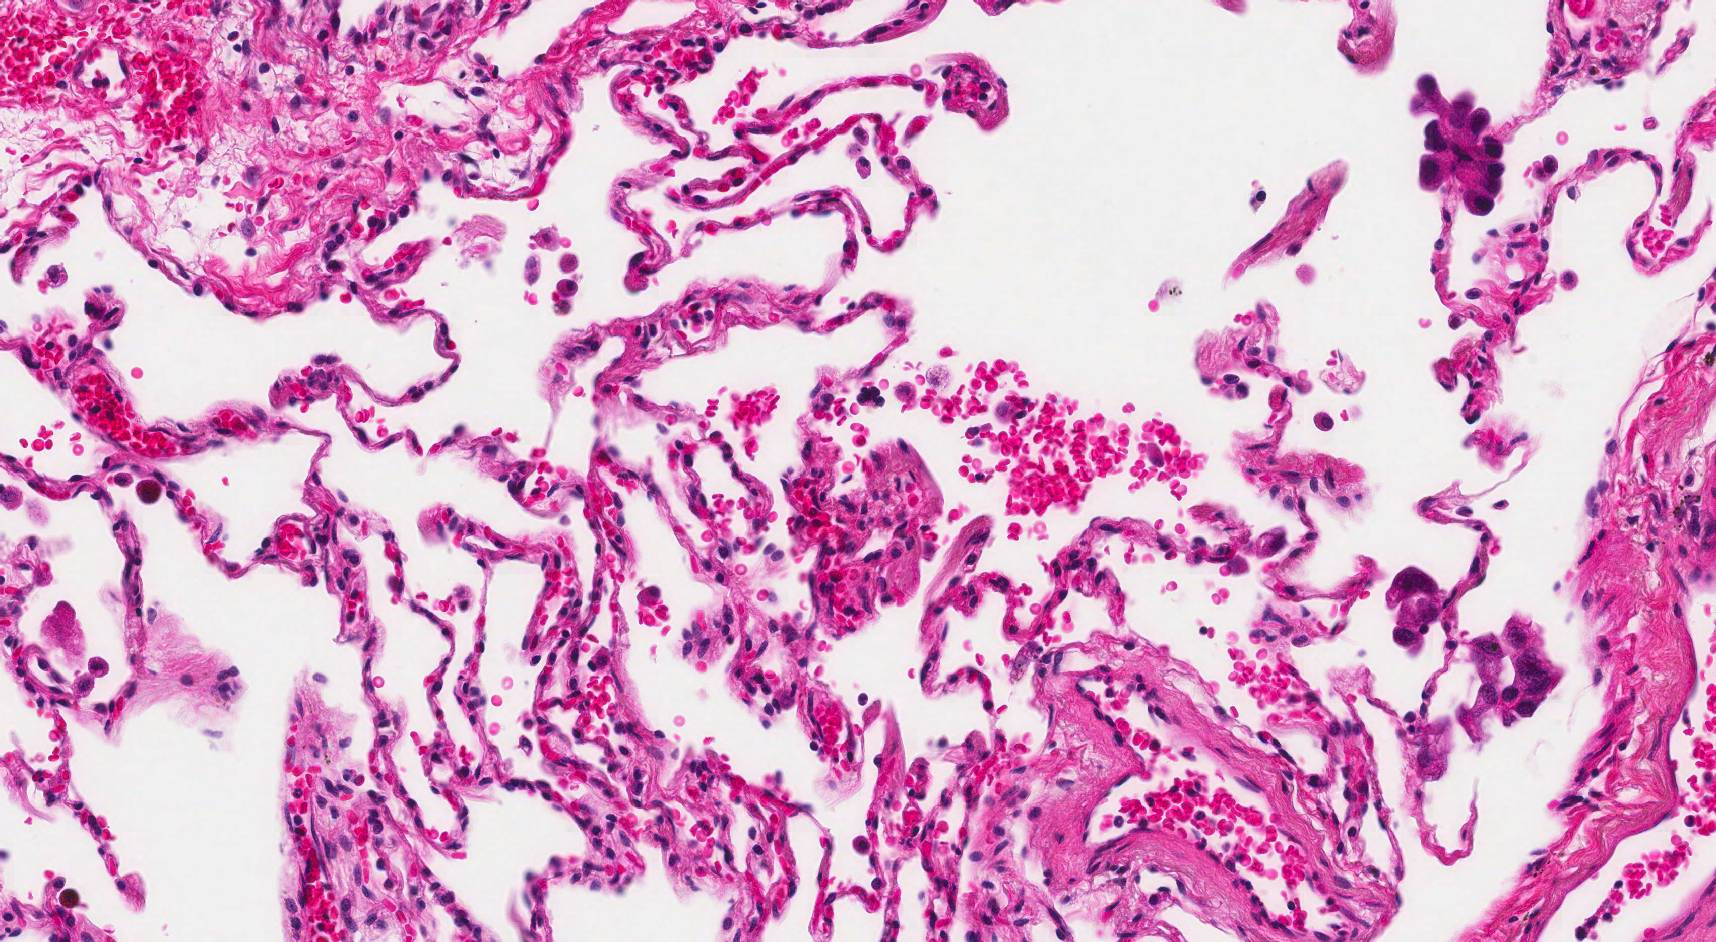stas: (1454, 610, 1564, 745), (1410, 71, 1506, 217), (1386, 568, 1439, 652)
